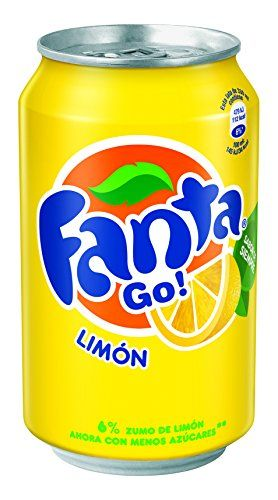fanta_can: (18, 23, 258, 477)
